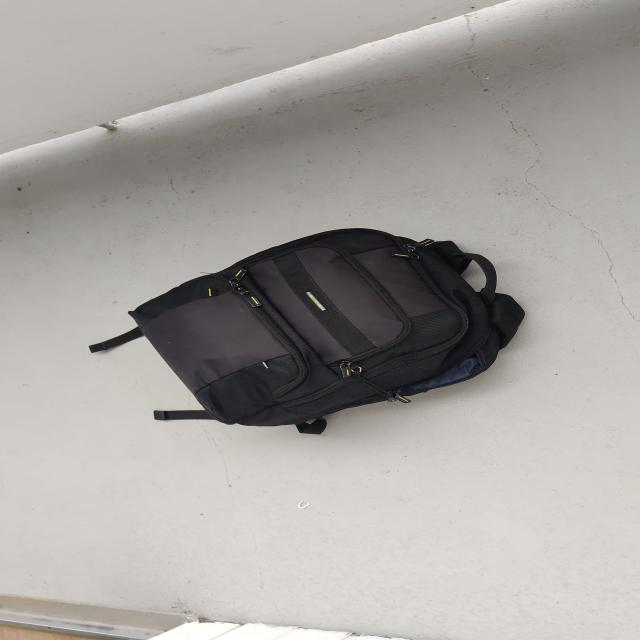backpack: (121, 221, 536, 434)
